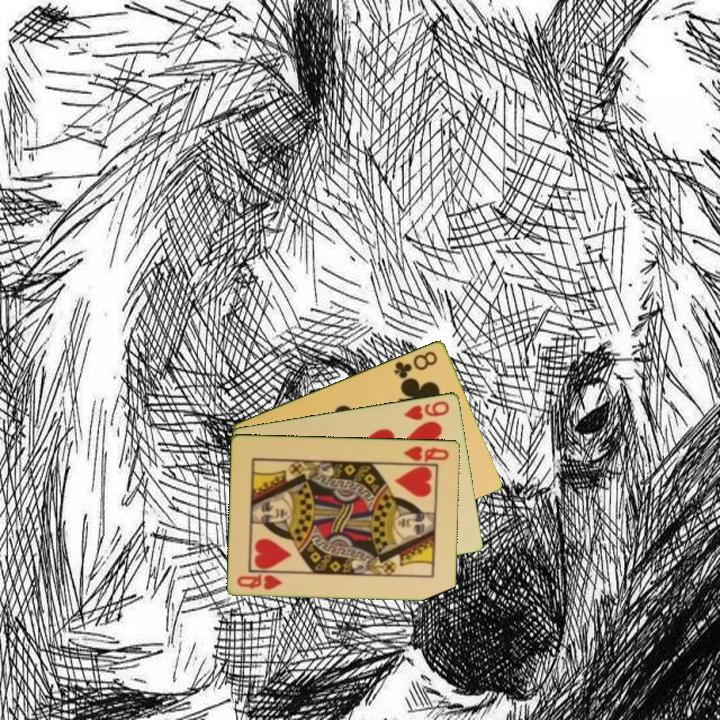8c: (391, 347, 440, 381)
9h: (401, 397, 452, 423)
Qh: (400, 442, 452, 464), (233, 570, 285, 592)
